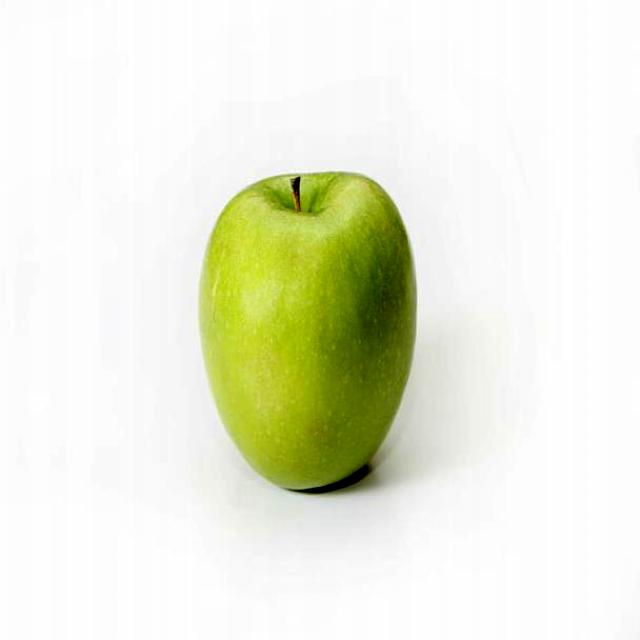HEALTHY: (182, 152, 443, 494)
